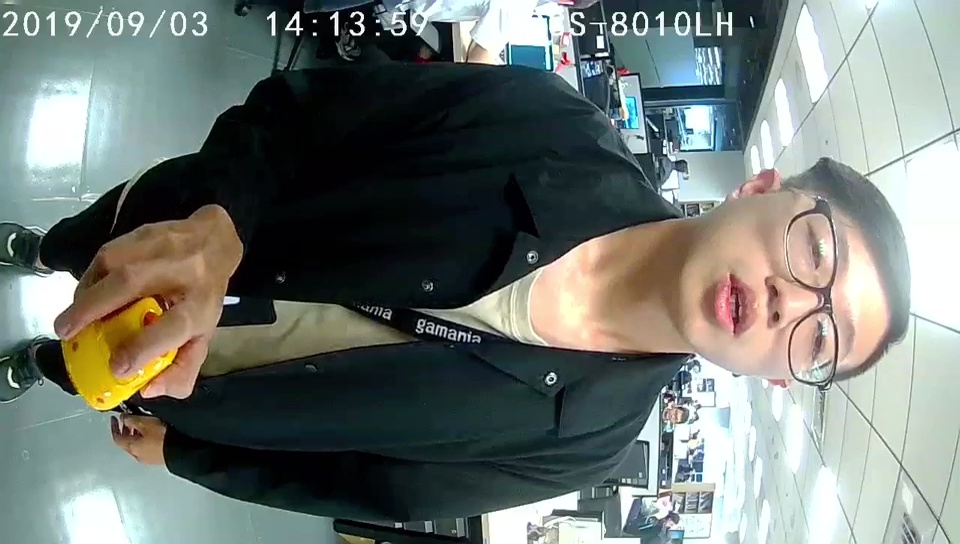car: (61, 293, 183, 410)
